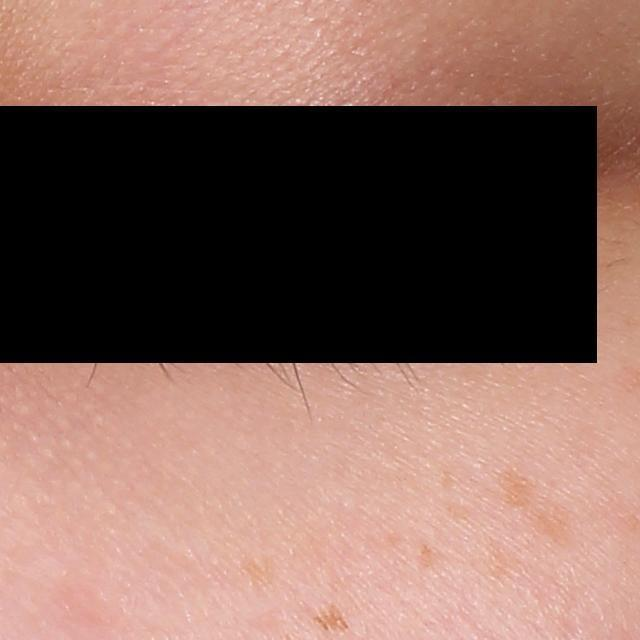melasma: (500, 464, 573, 549), (238, 552, 276, 589), (413, 542, 442, 574)
